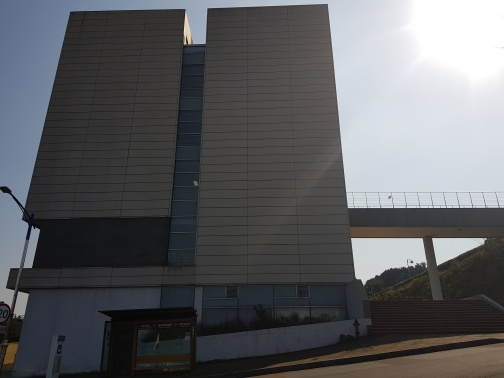Engineering College Building 4: (65, 8, 352, 352), (178, 13, 335, 340), (41, 10, 166, 367)
